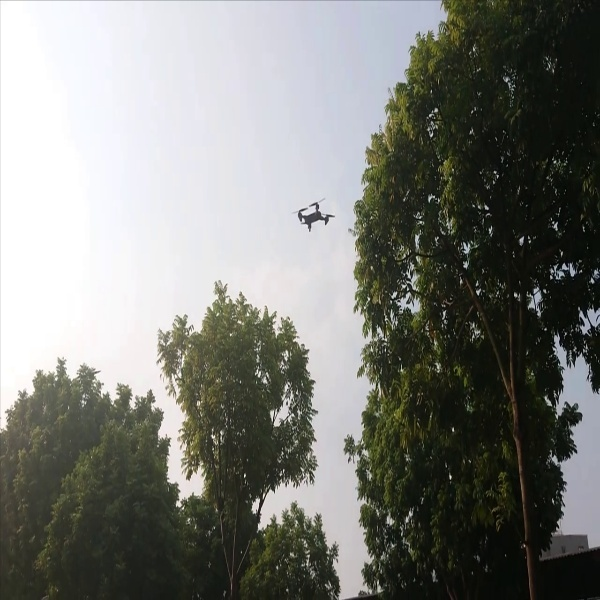drone: (291, 194, 338, 239)
